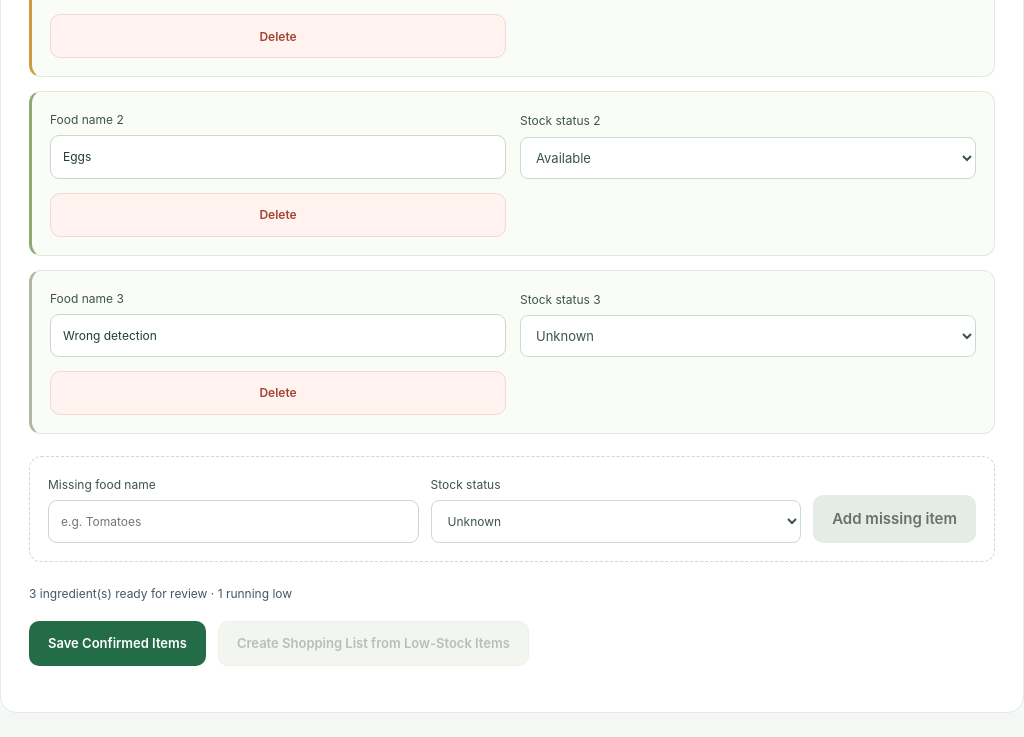
Scenario: review food items › retains edits after a failed save and reuses the allocated scan on retry
(page scrolled)
What coordinates should you click on to do the following:
click the button "Save Confirmed Items"
I would click on:
 (117, 644)
Its box is [29,622,206,666].
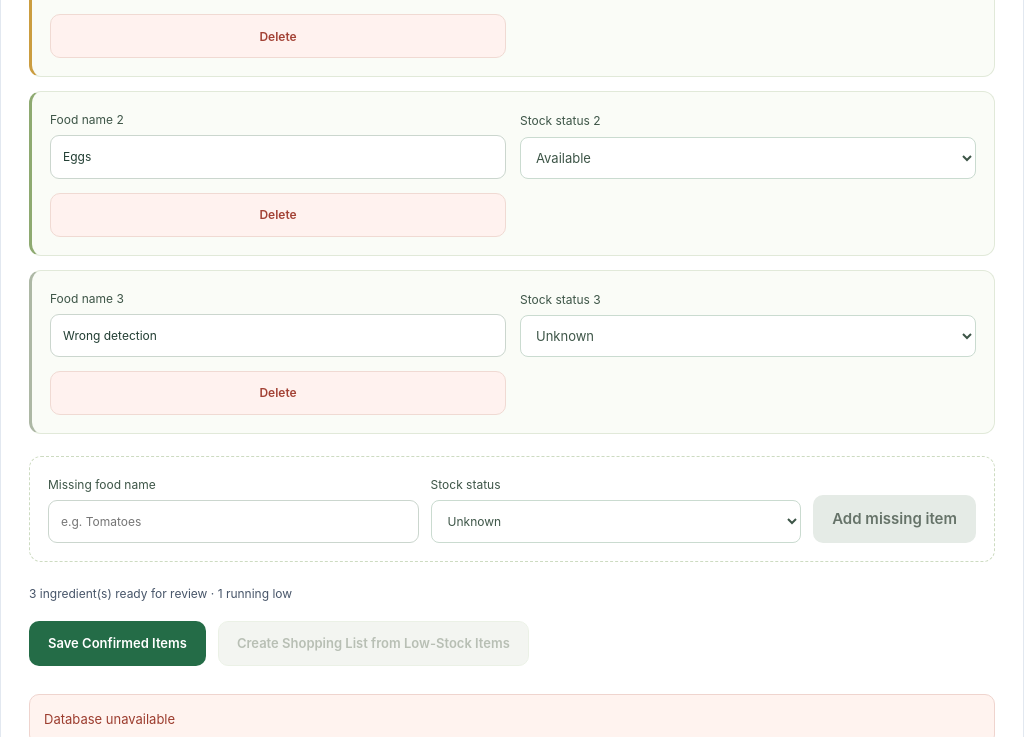
Now the message reads "Database unavailable", box [44,711,175,727]
What coordinates should you click on to do the following:
click the button "Save Confirmed Items"
I would click on:
 (117, 644)
Its box is [29,622,206,666].
(page scrolled)
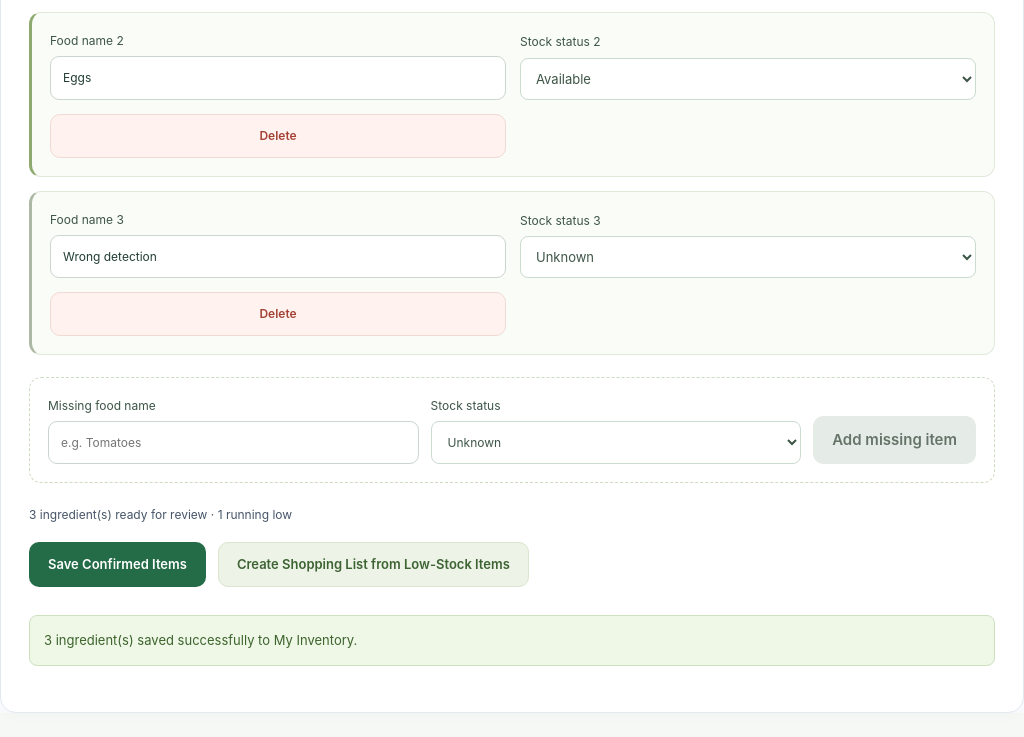
Now the text "3 ingredient(s) saved successfully to My Inventory." is shown, box [29,615,995,666]
